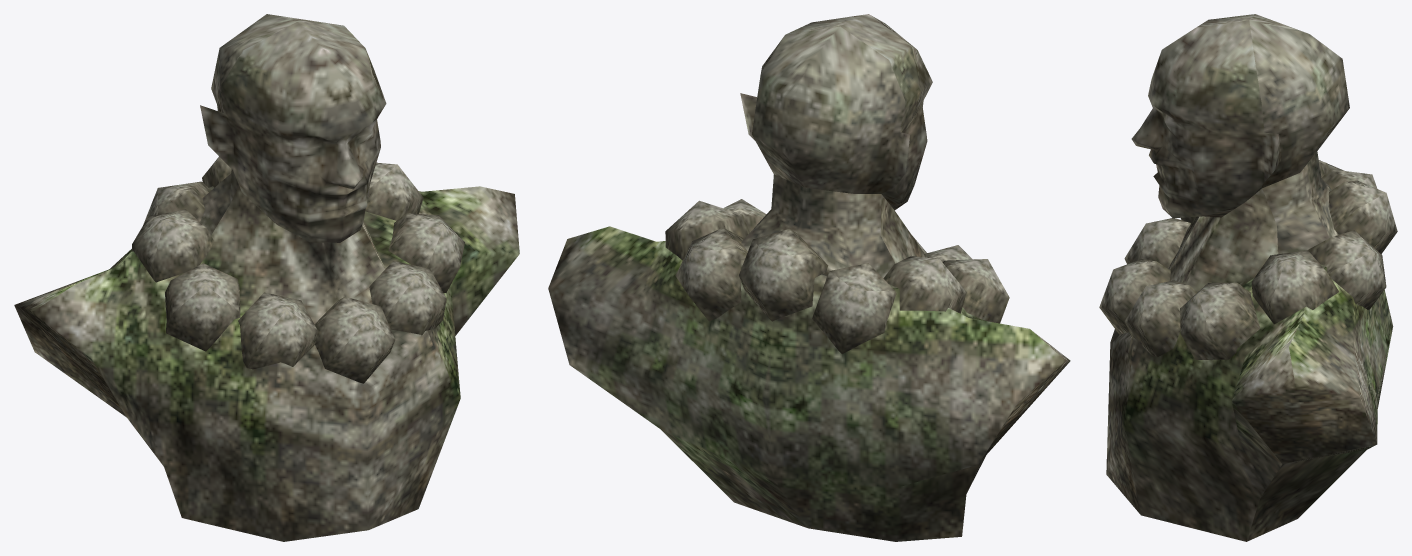
File: general_obj_stoneimage01.fbx
3 views of the same model, side by side, from view 1: azimuth 30°, elevation 25°; view 2: azimuth 150°, elevation 25°; view 3: azimuth 270°, elevation 25° (orthographic). The views are drawn at different scales.
Visible parts, largest first — view 1: Sphere01; view 2: Sphere01; view 3: Sphere01.
Part boxes in pixels (<box>): Sphere01: <box>14,14,519,541</box>; Sphere01: <box>548,14,1070,541</box>; Sphere01: <box>1099,14,1397,541</box>.
Size of the model in its own units: 5.85 by 5.41 by 3.15.
